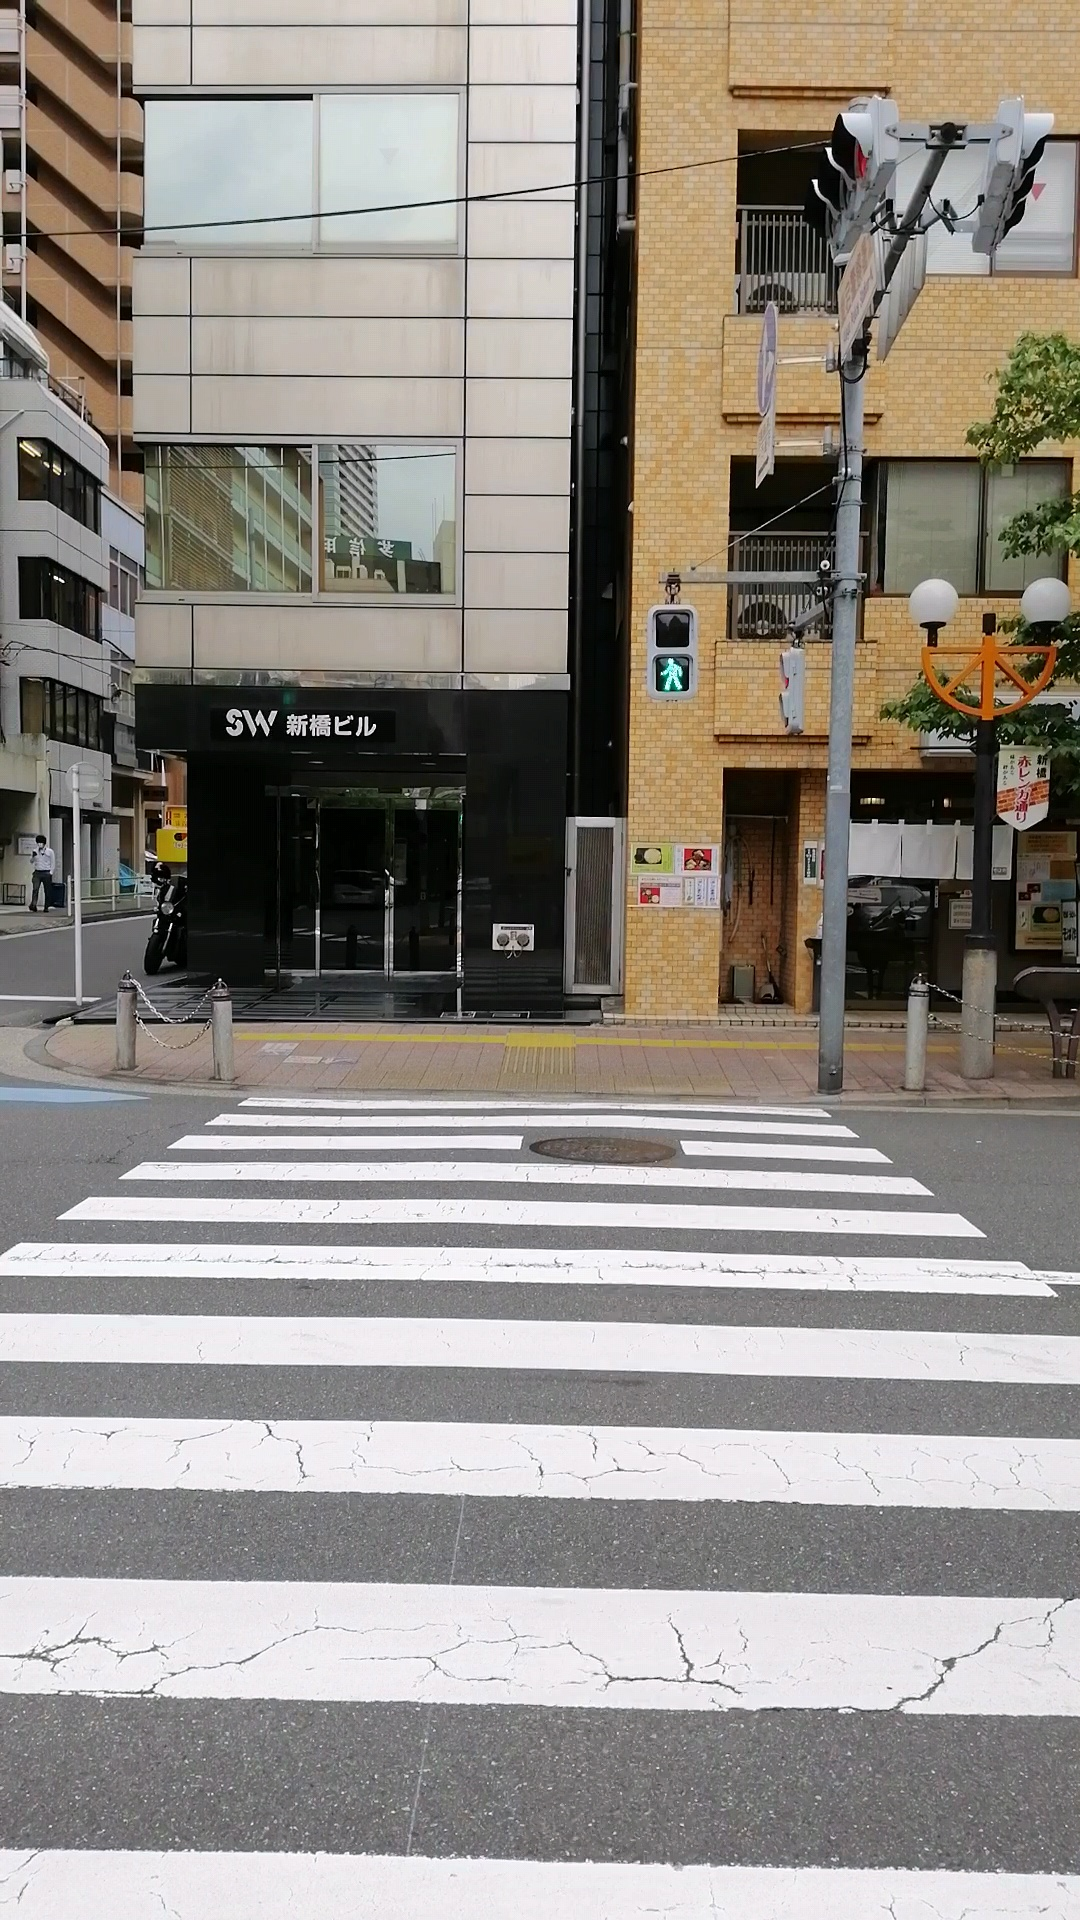green: (646, 603, 695, 698)
